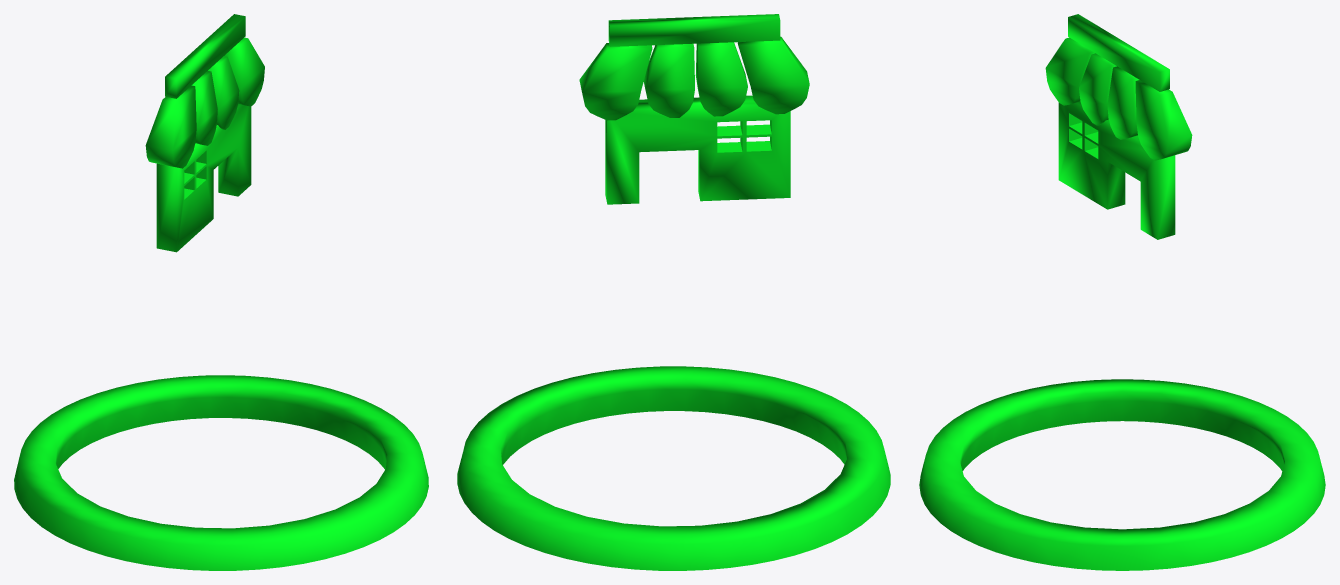
File: StorePointer(instance)0~100.FBX
3 renders of one model, left to right at view 1: azimuth 30°, elevation 25°; view 2: azimuth 150°, elevation 25°; view 3: azimuth 270°, elevation 25°, orthographic. The views are drawn at different scales.
Visible parts, largest first — view 1: Box001; view 2: Box001; view 3: Box001.
Part boxes in pixels (x1,y1,x2,y2): Box001: (14,14,428,570); Box001: (457,14,890,570); Box001: (919,14,1325,570).
Size of the model in its own units: 42.79 by 51.11 by 42.79.
